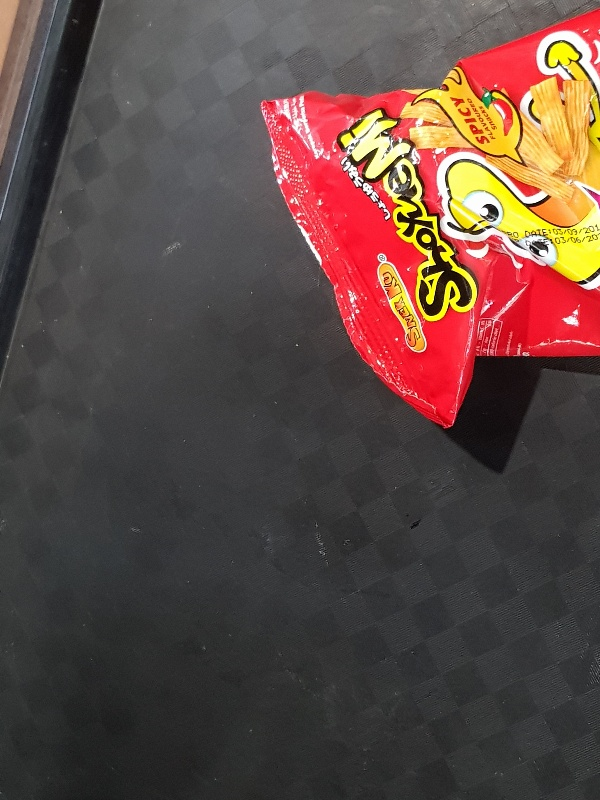ShoyueMi Spicy Flavoured Snacks: (257, 7, 600, 432)
